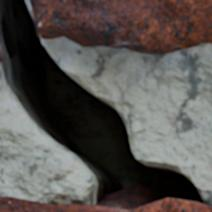brick: (0, 197, 123, 211), (132, 199, 211, 211)
broken_brick: (31, 0, 211, 55)
crack: (0, 0, 209, 211)
